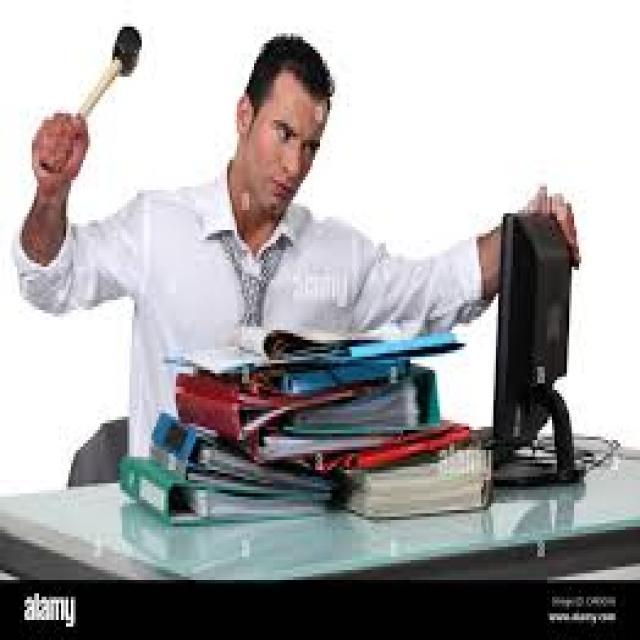hammer: (45, 12, 150, 192)
